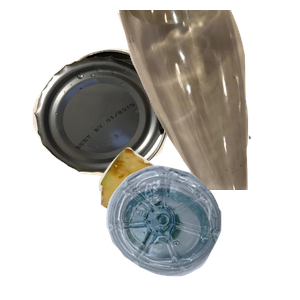glass: (115, 10, 300, 190)
metal: (30, 46, 205, 215)
plastic: (104, 163, 300, 300)
trash: (96, 145, 295, 300)
